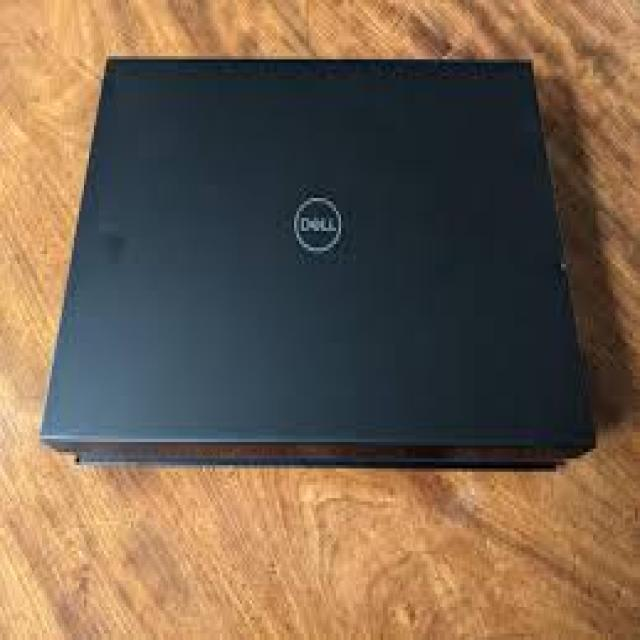laptop: (37, 53, 596, 468)
